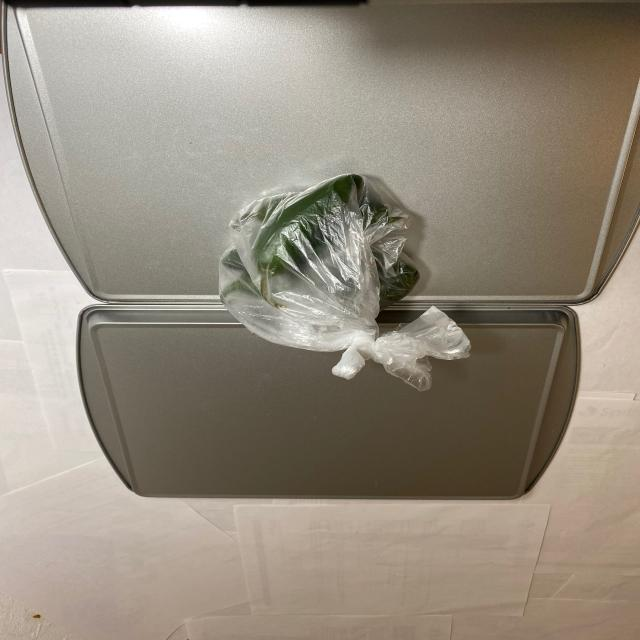chilli: (214, 169, 439, 338)
